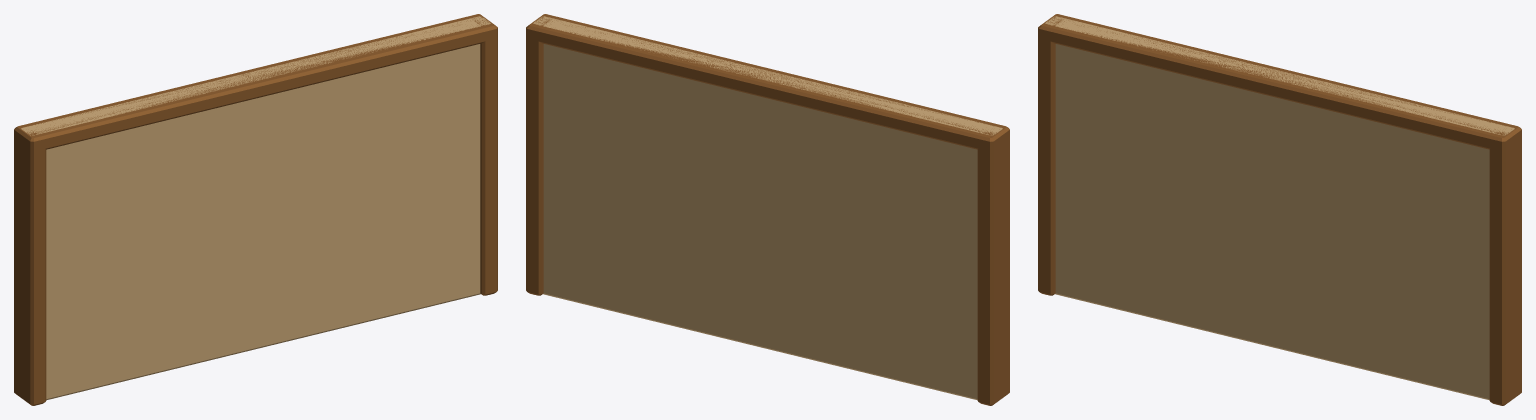
Rendered from wall_low_cover.glb.
3 renders of one model, left to right at view 1: azimuth 30°, elevation 25°; view 2: azimuth 150°, elevation 25°; view 3: azimuth 330°, elevation 25°, orthographic.
Visible parts, largest first — view 1: wall_low_cover; view 2: wall_low_cover; view 3: wall_low_cover.
Part boxes in pixels (x1=…): wall_low_cover: x1=14, y1=14, x2=497, y2=405; wall_low_cover: x1=526, y1=14, x2=1009, y2=405; wall_low_cover: x1=1038, y1=14, x2=1521, y2=405.
Bounding box in the file's own units: 2.01 × 1.1 × 0.14.
